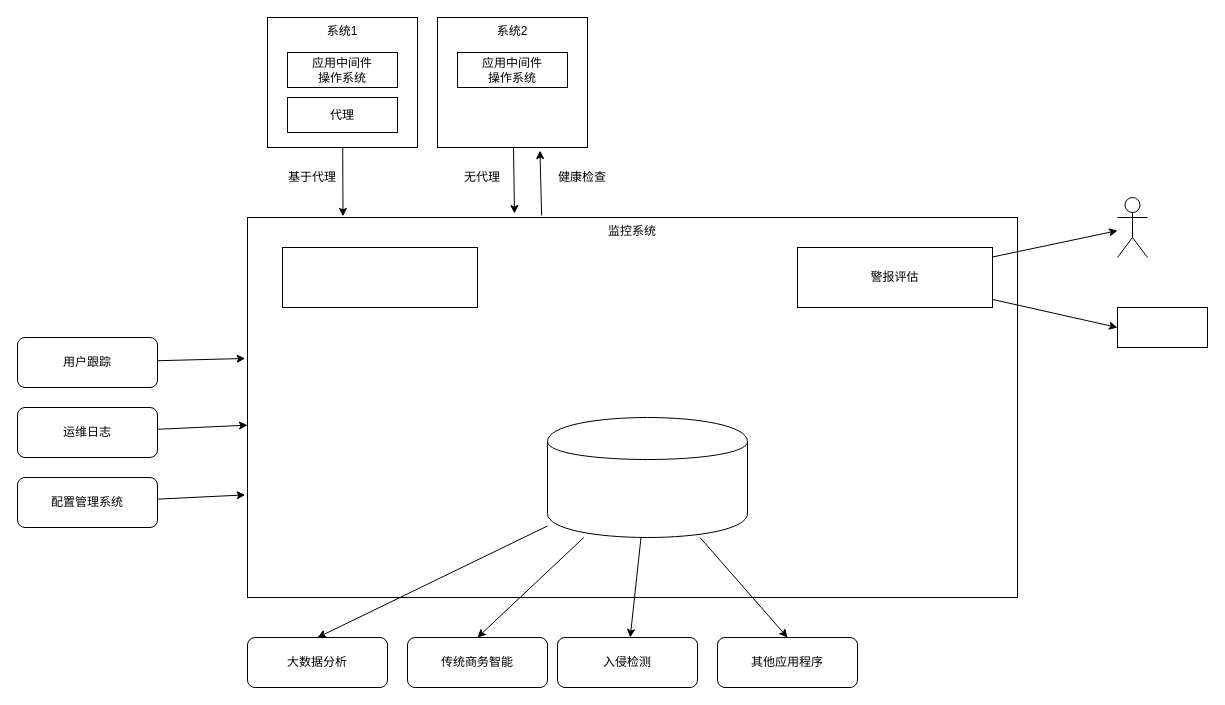
This 1225x705 diagram has some shape labels left out. The shapes that lost their labels are listed below. From the top down, each one's centre as x and y in pixels, then its label:
At pixel 1132 227: "运维人员".
At pixel 380 277: "可视化".
At pixel 1162 327: "其他系统".
At pixel 647 477: "监控中心数据库".
